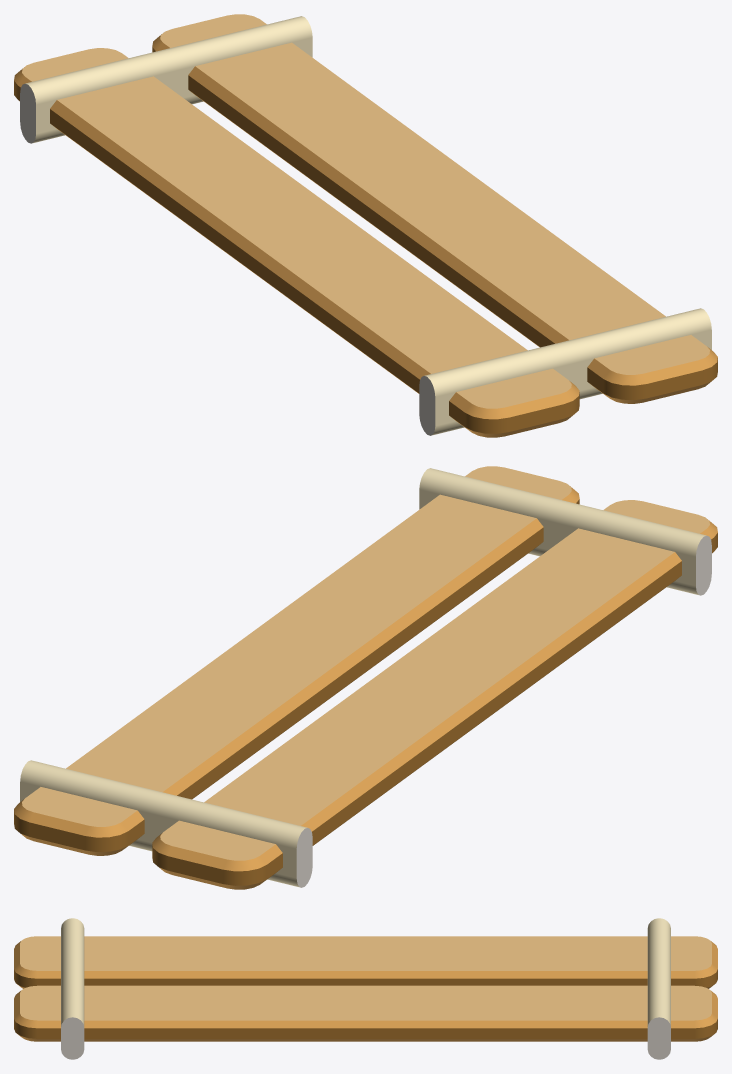
File: Prop_Bridge_Wide.obj
The picture shows the model from 3 angles, top to bottom: view 1: azimuth 30°, elevation 25°; view 2: azimuth 150°, elevation 25°; view 3: azimuth 270°, elevation 25°; orthographic projection. The views are drawn at different scales.
Parts seen in each view (by area): view 1: Wood_Light, Rope, Wood_Medium, Wood_Dark, Hidden; view 2: Wood_Light, Rope, Wood_Medium, Wood_Dark, Hidden; view 3: Wood_Light, Wood_Medium, Wood_Dark, Rope, Hidden.
Part boxes in pixels (x1,y1,x2,y2): Wood_Light: (22,14,709,408); Rope: (25,16,711,435); Wood_Medium: (14,34,717,437); Wood_Dark: (14,47,717,433); Hidden: (20,83,435,435); Wood_Light: (22,466,709,860); Rope: (20,468,706,887); Wood_Medium: (14,486,717,889); Wood_Dark: (14,499,717,885); Hidden: (296,535,711,887); Wood_Light: (20,936,711,1020); Wood_Medium: (14,941,717,1041); Wood_Dark: (14,969,717,1038); Rope: (61,918,670,1026); Hidden: (61,1017,670,1059).
Size of the model in its own units: 1 by 0.2 by 3.
